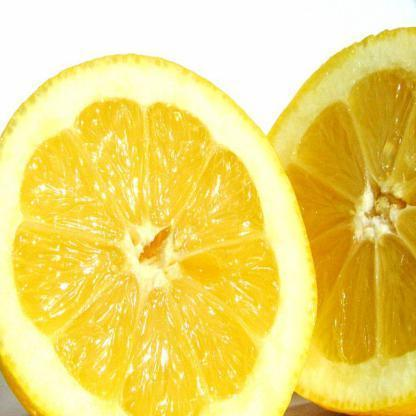lemon: (0, 52, 320, 416), (265, 25, 416, 416)
